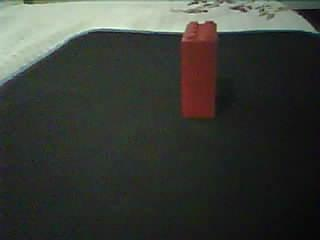lego: (180, 22, 220, 117)
